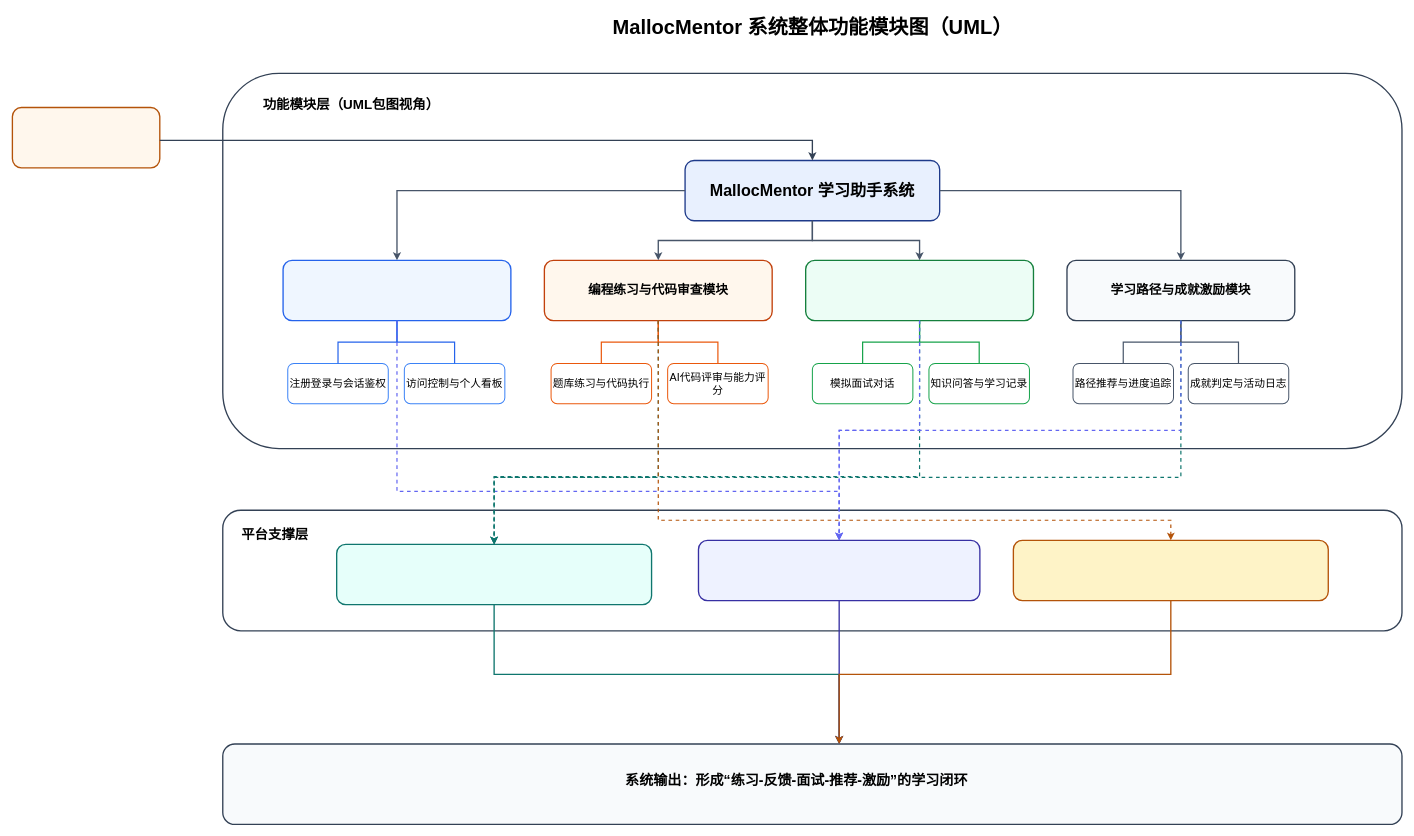
This 1414x836 diagram has some shape labels left out. The centre of each missing label's shape, as x and y in pixels:
"AI面试与知识学习模块" goes at [919,290].
"学生用户 (Actor)" goes at [85,137].
"执行与通信支撑 (Piston沙盒 + SSE流式传输)" goes at [1170,570].
"数据持久化层 (PostgreSQL + Prisma)" goes at [838,570].
"用户与权限管理模块" goes at [396,290].
"统一AI服务编排 (Coze Bots / Prompt模板 / 结果解析)" goes at [494,574].
